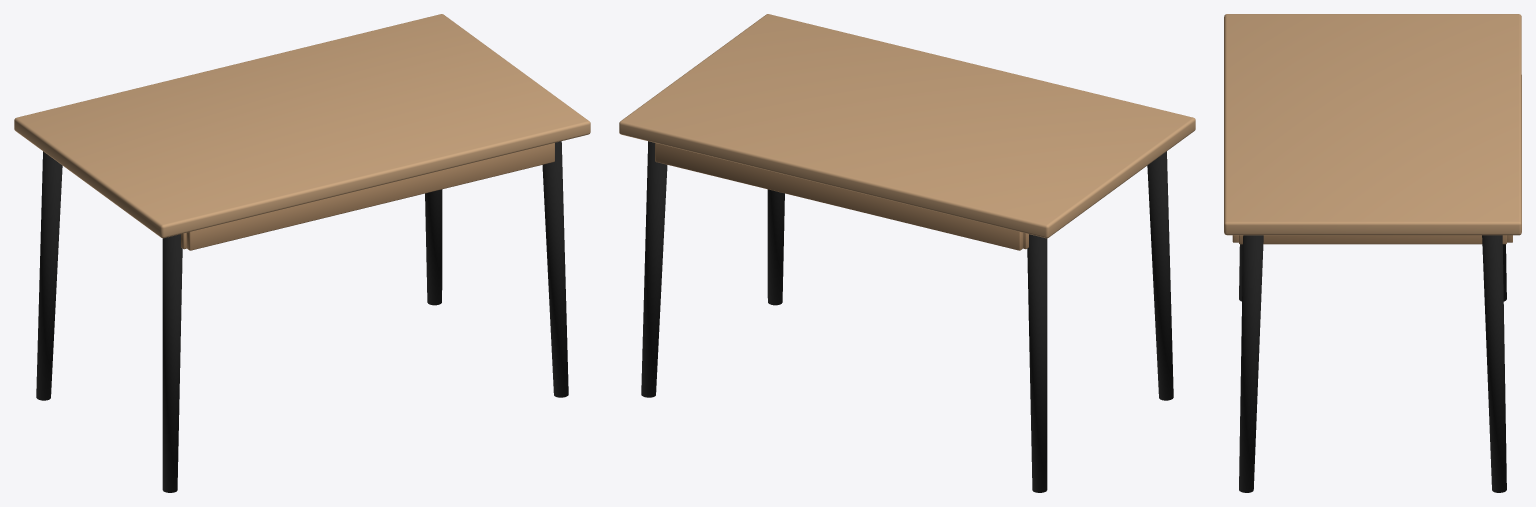
The model's file is kitchen-diningtable.glb.
3 renders of one model, left to right at view 1: azimuth 30°, elevation 25°; view 2: azimuth 150°, elevation 25°; view 3: azimuth 270°, elevation 25°, orthographic.
Parts seen in each view (by area): view 1: DiningTable__Top, DiningTable__Legs, DiningTable__Apron; view 2: DiningTable__Top, DiningTable__Legs, DiningTable__Apron; view 3: DiningTable__Top, DiningTable__Legs, DiningTable__Apron.
Part boxes in pixels (bbox=[...]): DiningTable__Top: bbox=[14, 14, 590, 238]; DiningTable__Legs: bbox=[36, 141, 568, 492]; DiningTable__Apron: bbox=[181, 143, 554, 250]; DiningTable__Top: bbox=[619, 14, 1195, 238]; DiningTable__Legs: bbox=[641, 141, 1173, 492]; DiningTable__Apron: bbox=[655, 143, 1028, 250]; DiningTable__Top: bbox=[1224, 14, 1521, 235]; DiningTable__Legs: bbox=[1239, 235, 1506, 492]; DiningTable__Apron: bbox=[1232, 235, 1512, 244].
Bounding box in the file's own units: 200 × 123 × 120.
